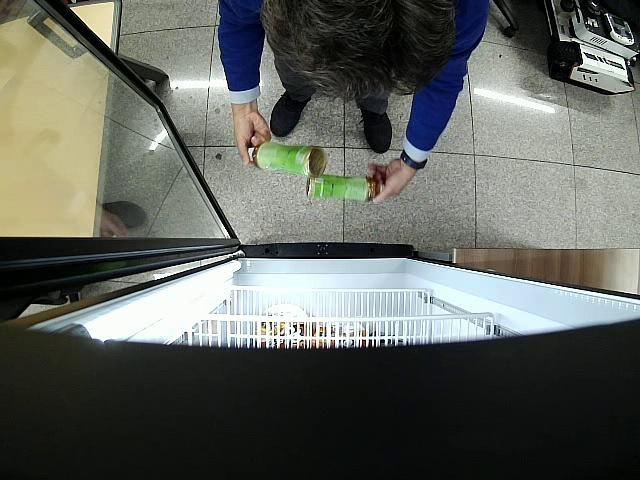19_17cha: (248, 142, 326, 178), (306, 177, 386, 201)
